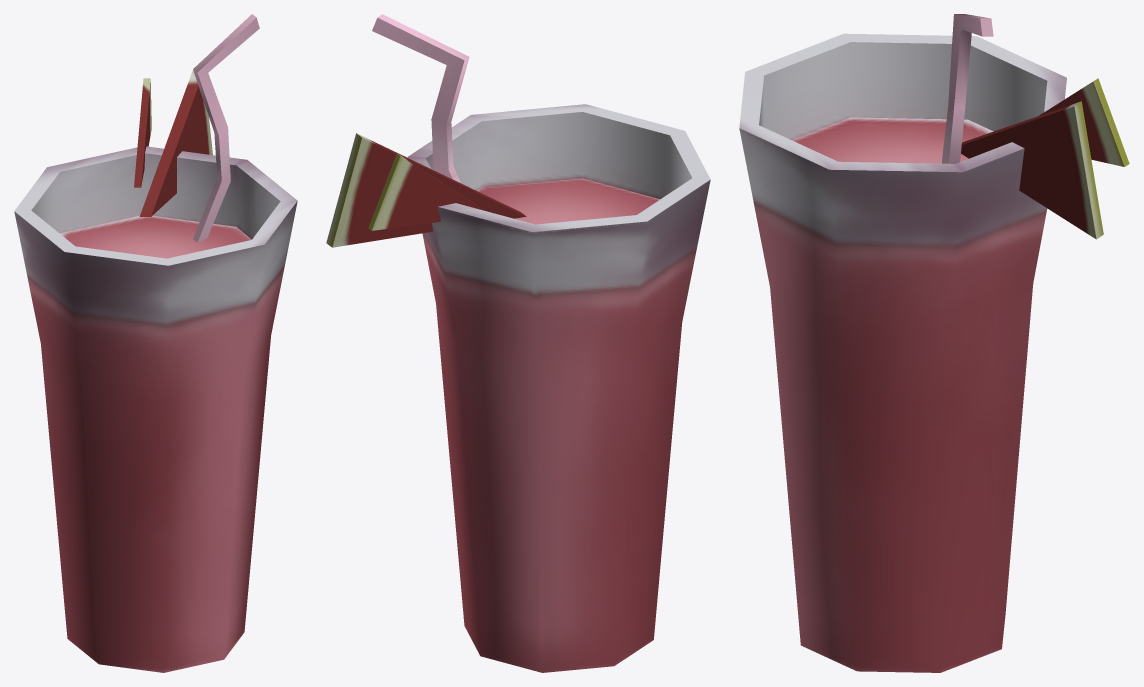
File: KaFeiTing_01_qishui_01.FBX
The picture shows the model from 3 angles, left to right: view 1: azimuth 30°, elevation 25°; view 2: azimuth 150°, elevation 25°; view 3: azimuth 270°, elevation 25°; orthographic projection. The views are drawn at different scales.
Visible parts, largest first — view 1: KaFeiTing_01_qishui_01; view 2: KaFeiTing_01_qishui_01; view 3: KaFeiTing_01_qishui_01.
Boxes of the visible parts, x1=… form: KaFeiTing_01_qishui_01: x1=14, y1=14, x2=297, y2=672; KaFeiTing_01_qishui_01: x1=326, y1=14, x2=710, y2=672; KaFeiTing_01_qishui_01: x1=739, y1=14, x2=1129, y2=672.
Size of the model in its own units: 61.22 by 131 by 66.94.
